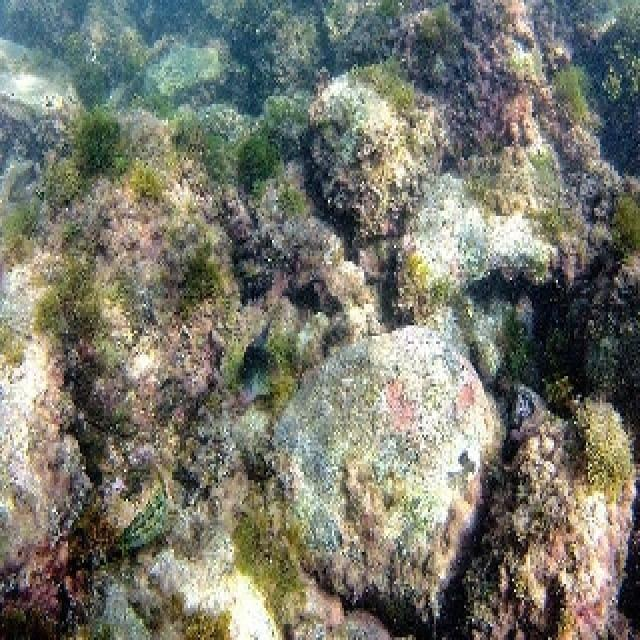aquatic plants: (167, 116, 277, 203), (45, 109, 134, 210), (570, 396, 633, 491), (173, 243, 227, 309), (555, 63, 591, 124)
fish: (117, 487, 172, 551), (234, 367, 278, 406)
